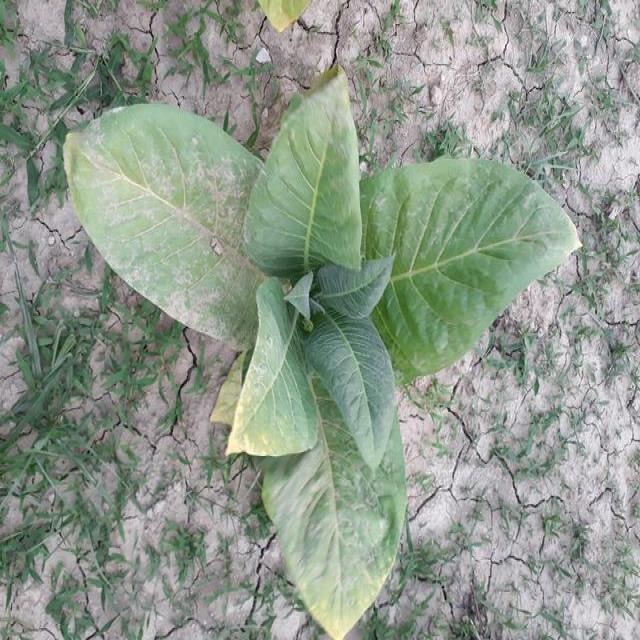crop: (55, 108, 576, 631)
